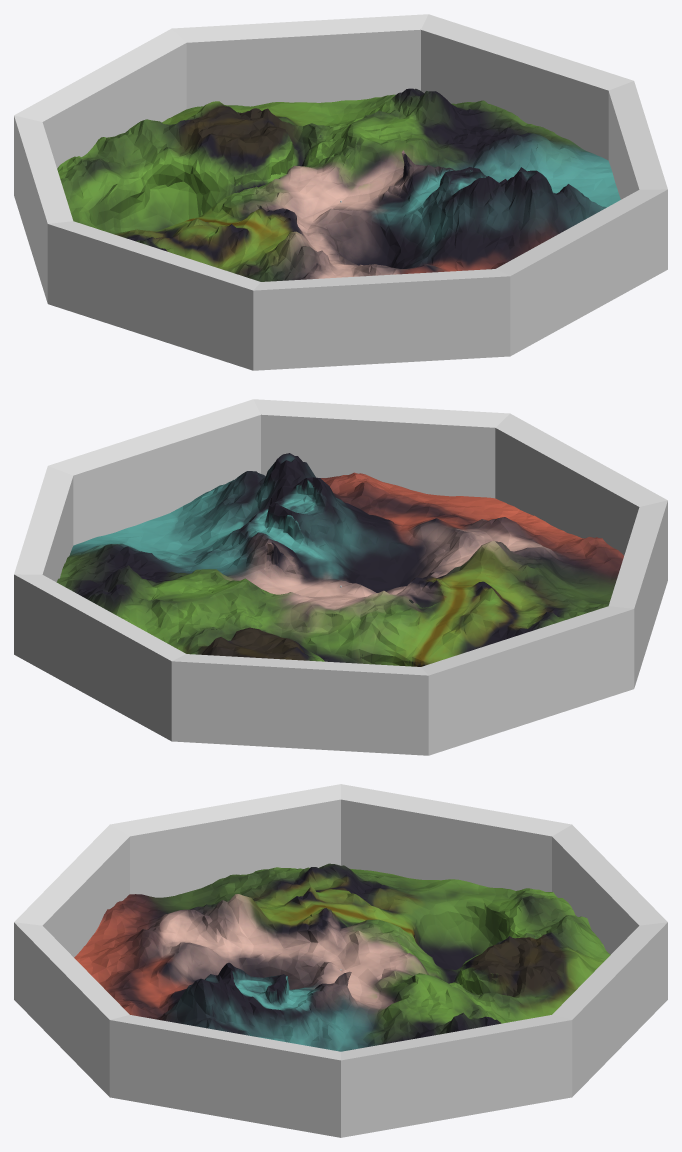
File: lobbyWithCollisionWithoutComp.glb
The picture shows the model from 3 angles, top to bottom: view 1: azimuth 30°, elevation 25°; view 2: azimuth 150°, elevation 25°; view 3: azimuth 270°, elevation 25°; orthographic projection. The views are drawn at different scales.
Visible parts, largest first — view 1: land limit, Landscape; view 2: land limit, Landscape; view 3: land limit, Landscape.
Part boxes in pixels (box(x1,y1,x2,y2)): land limit: box(14, 14, 667, 370); Landscape: box(57, 88, 620, 281); land limit: box(14, 399, 667, 755); Landscape: box(56, 453, 623, 666); land limit: box(14, 784, 667, 1137); Landscape: box(74, 863, 610, 1051).
Size of what is drawn, in the model's own units: 4.91 by 0.9679 by 4.91.
Materials: 1 (1 with a texture image).
